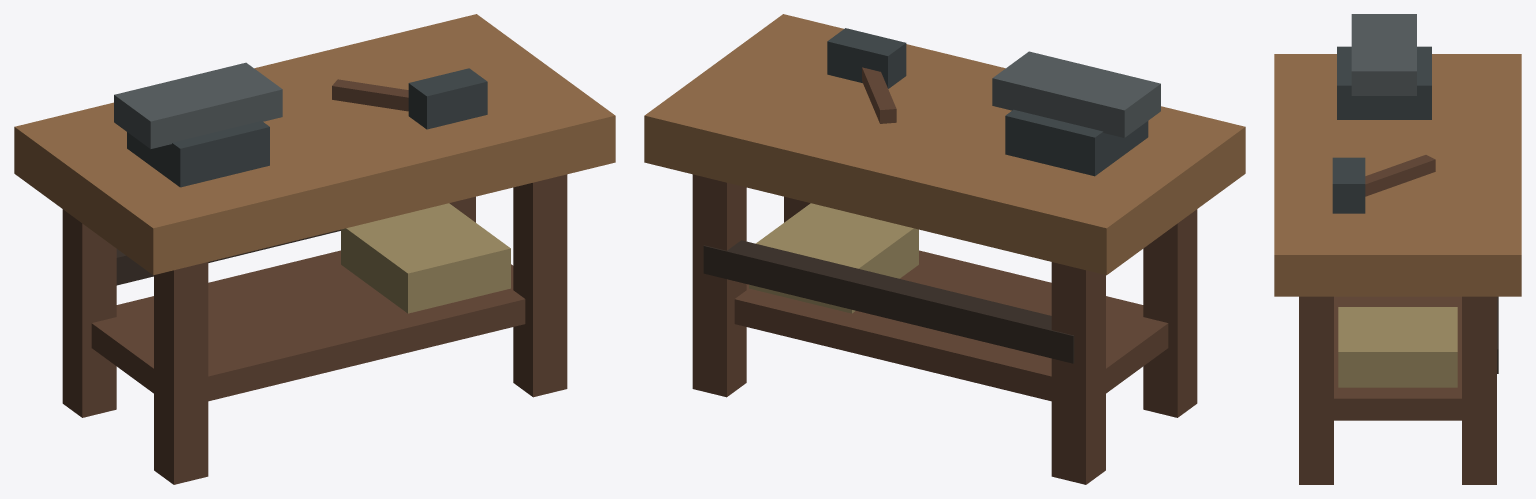
Rendered from Stations_Workbench.glb.
The picture shows the model from 3 angles, left to right: view 1: azimuth 30°, elevation 25°; view 2: azimuth 150°, elevation 25°; view 3: azimuth 270°, elevation 25°; orthographic projection. The views are drawn at different scales.
Visible parts, largest first — view 1: _MeshInstance3D_4193, _MeshInstance3D_4194, _MeshInstance3D_4200, _MeshInstance3D_4190, _MeshInstance3D_4192, _MeshInstance3D_4197, _MeshInstance3D_4189, _MeshInstance3D_4196, _MeshInstance3D_4199, _MeshInstance3D_4198, _MeshInstance3D_4195; view 2: _MeshInstance3D_4193, _MeshInstance3D_4194, _MeshInstance3D_4195, _MeshInstance3D_4189, _MeshInstance3D_4191, _MeshInstance3D_4197, _MeshInstance3D_4190, _MeshInstance3D_4200, _MeshInstance3D_4196, _MeshInstance3D_4199, _MeshInstance3D_4198; view 3: _MeshInstance3D_4193, _MeshInstance3D_4200, _MeshInstance3D_4191, _MeshInstance3D_4192, _MeshInstance3D_4194, _MeshInstance3D_4197, _MeshInstance3D_4196, _MeshInstance3D_4199, _MeshInstance3D_4198.
Boxes of the visible parts, left/top/right/bottom form: _MeshInstance3D_4193: left=14, top=14, right=615, bottom=275; _MeshInstance3D_4194: left=91, top=250, right=525, bottom=401; _MeshInstance3D_4200: left=341, top=203, right=510, bottom=313; _MeshInstance3D_4190: left=154, top=262, right=208, bottom=484; _MeshInstance3D_4192: left=513, top=174, right=567, bottom=397; _MeshInstance3D_4197: left=114, top=62, right=282, bottom=148; _MeshInstance3D_4189: left=62, top=209, right=116, bottom=417; _MeshInstance3D_4196: left=127, top=121, right=269, bottom=187; _MeshInstance3D_4199: left=408, top=68, right=487, bottom=129; _MeshInstance3D_4198: left=332, top=79, right=408, bottom=111; _MeshInstance3D_4195: left=116, top=229, right=340, bottom=285; _MeshInstance3D_4193: left=644, top=14, right=1245, bottom=275; _MeshInstance3D_4194: left=734, top=250, right=1168, bottom=401; _MeshInstance3D_4195: left=703, top=240, right=1074, bottom=363; _MeshInstance3D_4189: left=1051, top=262, right=1105, bottom=484; _MeshInstance3D_4191: left=692, top=174, right=746, bottom=397; _MeshInstance3D_4197: left=992, top=51, right=1160, bottom=137; _MeshInstance3D_4190: left=1143, top=209, right=1197, bottom=417; _MeshInstance3D_4200: left=749, top=203, right=918, bottom=313; _MeshInstance3D_4196: left=1005, top=109, right=1148, bottom=176; _MeshInstance3D_4199: left=827, top=28, right=906, bottom=88; _MeshInstance3D_4198: left=862, top=67, right=896, bottom=123; _MeshInstance3D_4193: left=1274, top=54, right=1521, bottom=296; _MeshInstance3D_4200: left=1338, top=307, right=1457, bottom=387; _MeshInstance3D_4191: left=1462, top=296, right=1496, bottom=484; _MeshInstance3D_4192: left=1299, top=296, right=1333, bottom=484; _MeshInstance3D_4194: left=1334, top=296, right=1461, bottom=420; _MeshInstance3D_4197: left=1351, top=14, right=1416, bottom=95; _MeshInstance3D_4196: left=1337, top=46, right=1431, bottom=119; _MeshInstance3D_4199: left=1332, top=157, right=1365, bottom=213; _MeshInstance3D_4198: left=1365, top=155, right=1435, bottom=196.
Bounding box in the file's own units: 1.75 × 1.23 × 0.91.
